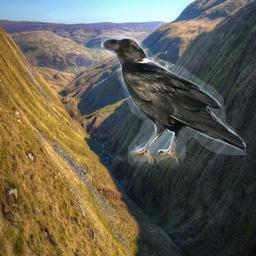Crow: (101, 36, 246, 168)
